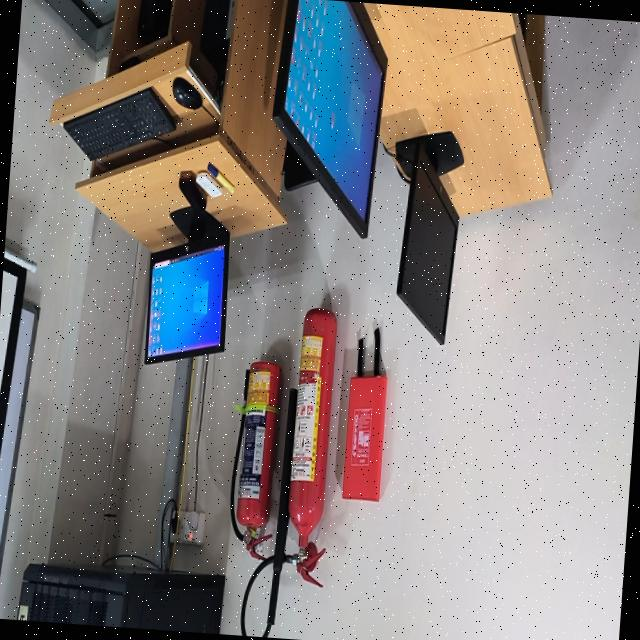Fire Extinguisher: (288, 309, 336, 585), (236, 361, 281, 531)
Keyboard: (63, 88, 175, 161)
Monitor: (272, 0, 386, 238), (395, 133, 462, 344), (144, 203, 229, 364)
Mouse: (172, 78, 202, 110)
